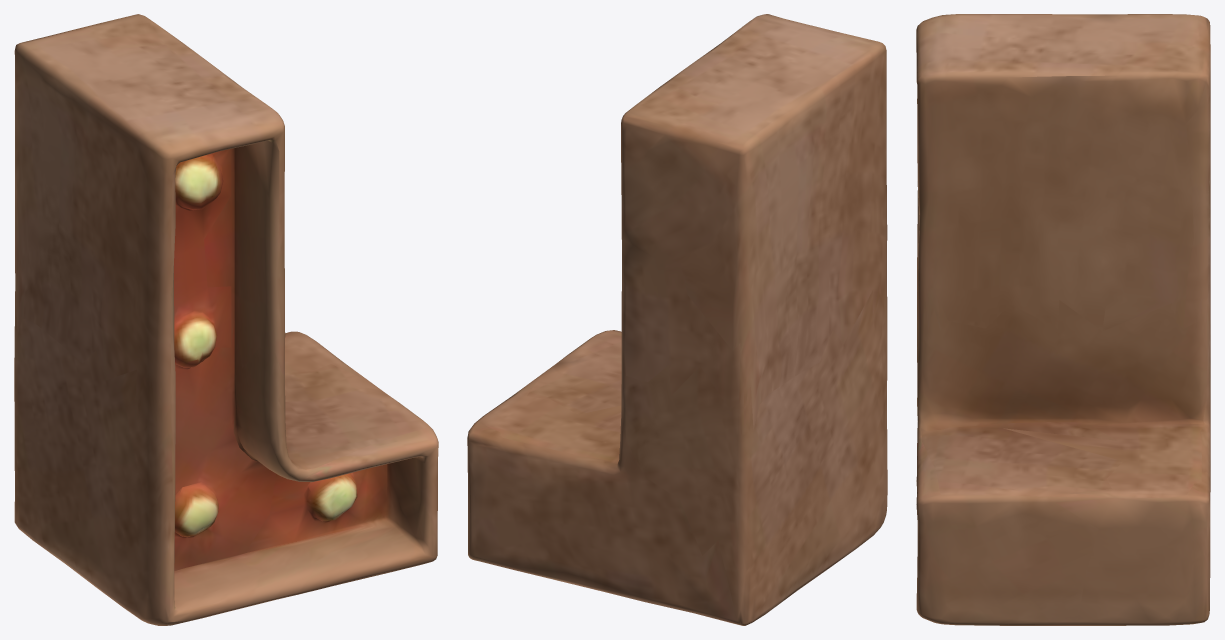
File: letter_l_idle.glb
3 renders of one model, left to right at view 1: azimuth 30°, elevation 25°; view 2: azimuth 150°, elevation 25°; view 3: azimuth 270°, elevation 25°, orthographic.
Parts seen in each view (by area): view 1: tmp_letters_partial_l_s_00; view 2: tmp_letters_partial_l_s_00; view 3: tmp_letters_partial_l_s_00.
Boxes of the visible parts, x1=… form: tmp_letters_partial_l_s_00: x1=14, y1=14, x2=438, y2=625; tmp_letters_partial_l_s_00: x1=467, y1=14, x2=887, y2=625; tmp_letters_partial_l_s_00: x1=916, y1=14, x2=1210, y2=625.
Bounding box in the file's own units: 0.6165 × 0.9994 × 0.5555.
1 material, 1 textured.
